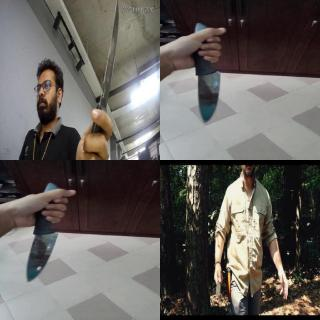knife: (95, 1, 119, 117), (190, 66, 228, 123), (24, 224, 62, 280), (212, 268, 224, 300)
